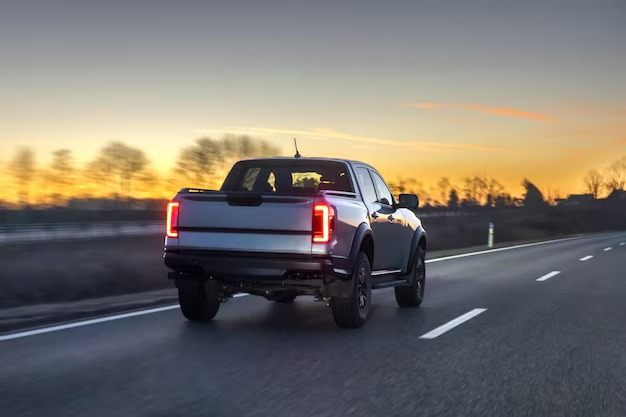car: (159, 150, 434, 336), (168, 153, 431, 266)
